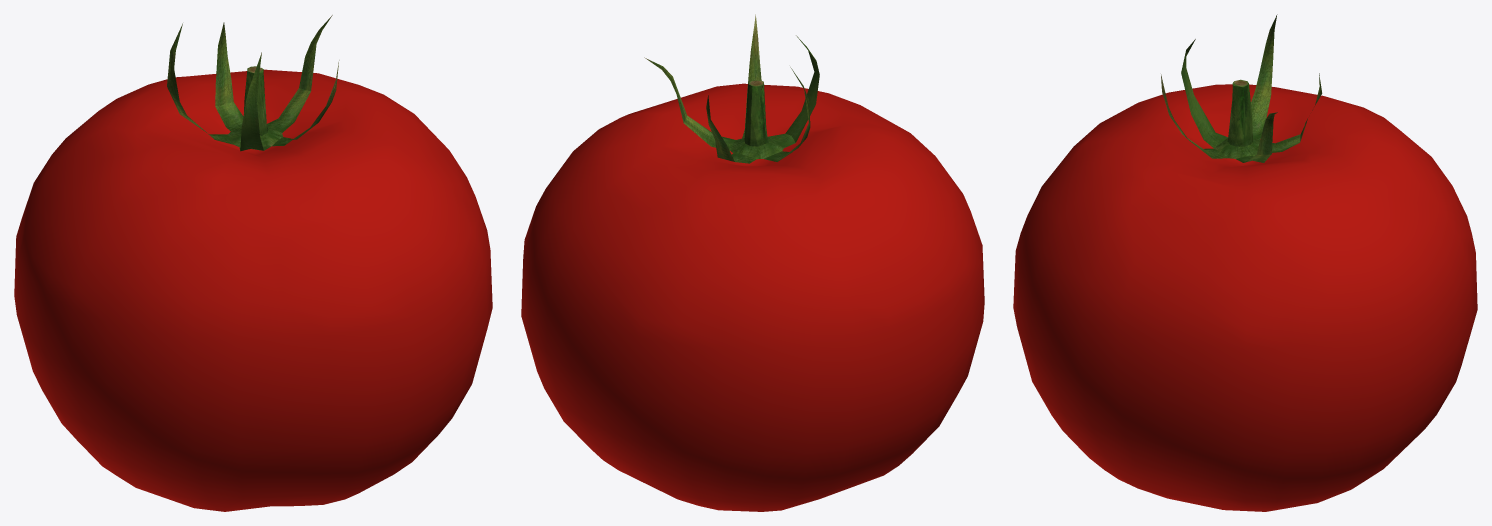
The model's file is Tomato.FBX.
3 renders of one model, left to right at view 1: azimuth 30°, elevation 25°; view 2: azimuth 150°, elevation 25°; view 3: azimuth 270°, elevation 25°, orthographic. The views are drawn at different scales.
Parts seen in each view (by area): view 1: Tomato; view 2: Tomato; view 3: Tomato.
Part boxes in pixels (x1,y1,x2,y2): Tomato: (14, 15, 492, 511); Tomato: (521, 14, 984, 511); Tomato: (1013, 14, 1477, 511).
Bounding box in the file's own units: 7.8 × 8.26 × 7.8.
Materials: 1 (1 with a texture image).
